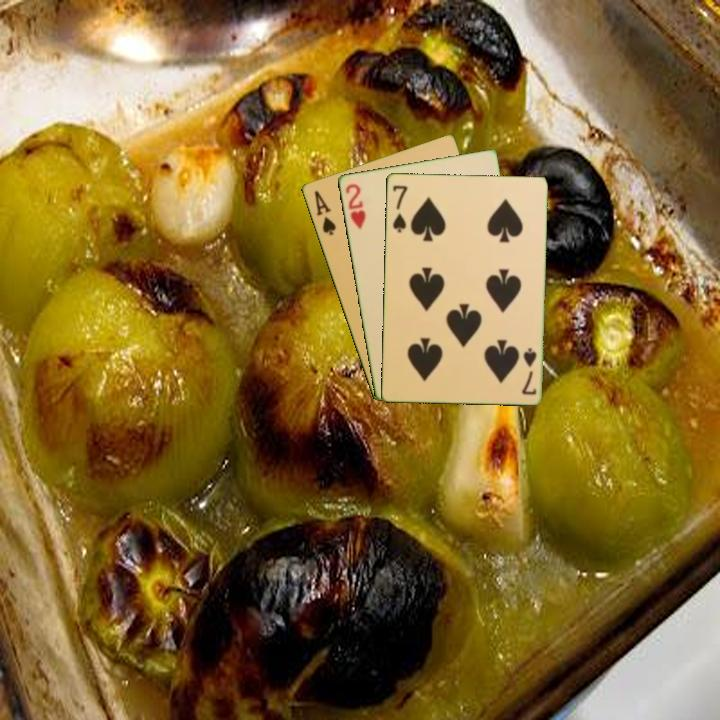2h: (341, 180, 368, 232)
7s: (389, 181, 410, 235), (518, 344, 539, 397)
As: (310, 187, 338, 238)
